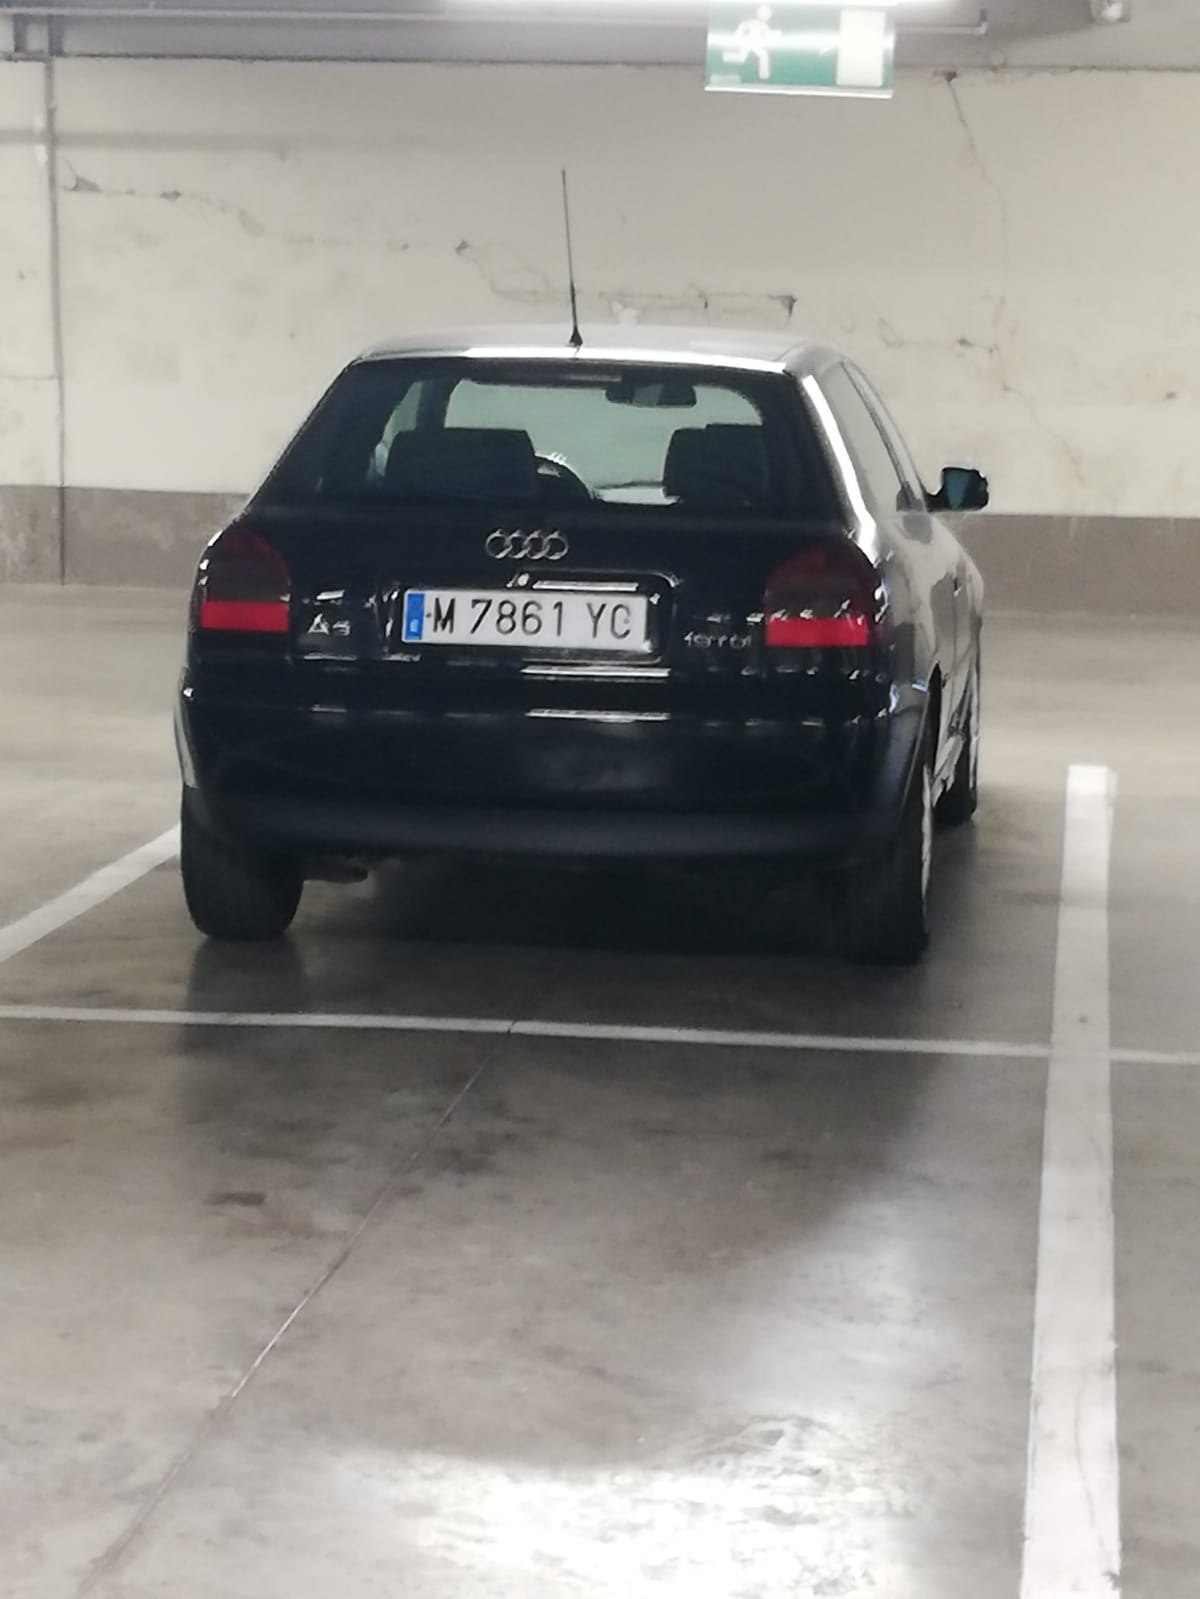Car: (170, 329, 991, 936)
Plate: (404, 584, 647, 644)
